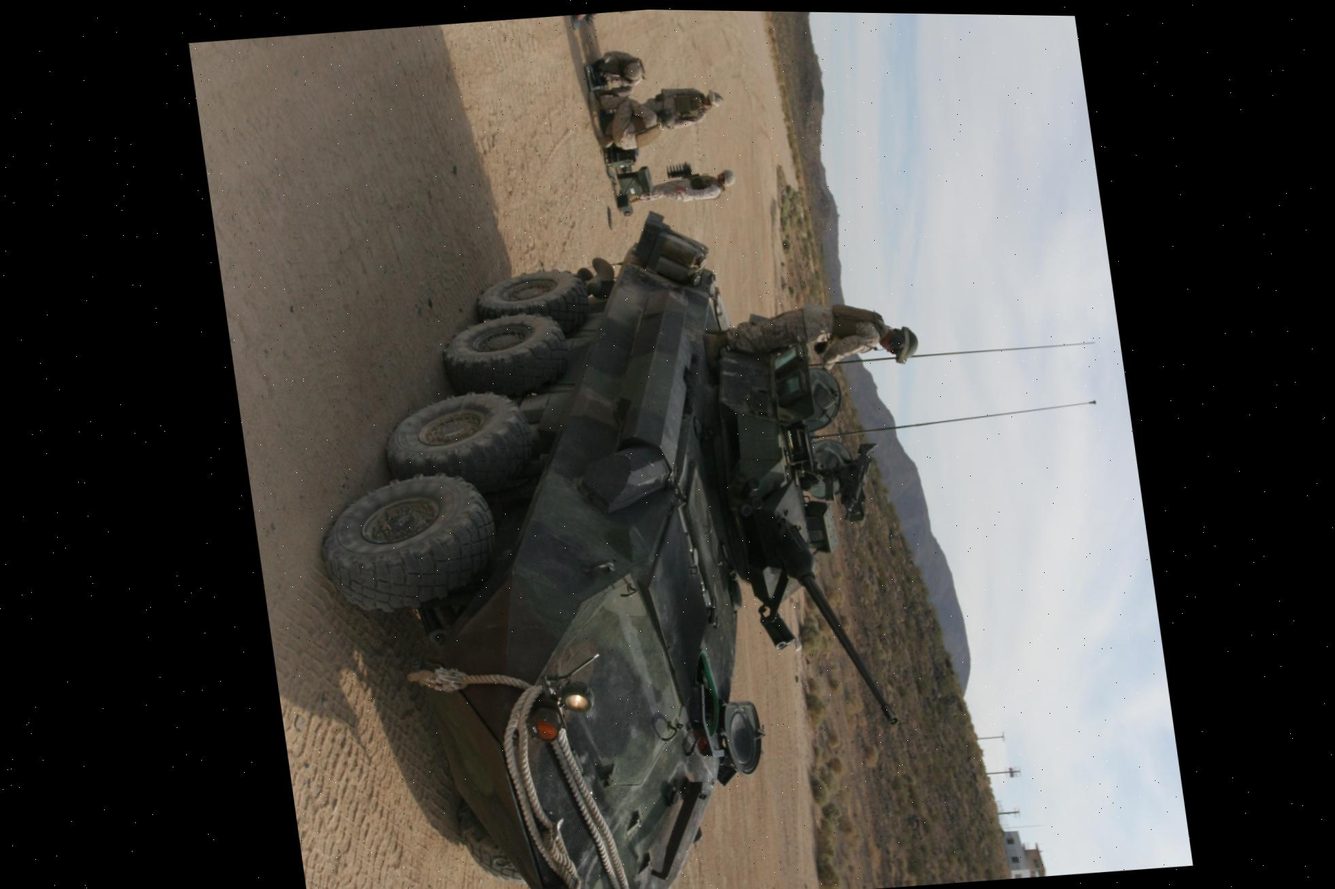armored_car: (273, 189, 949, 889)
